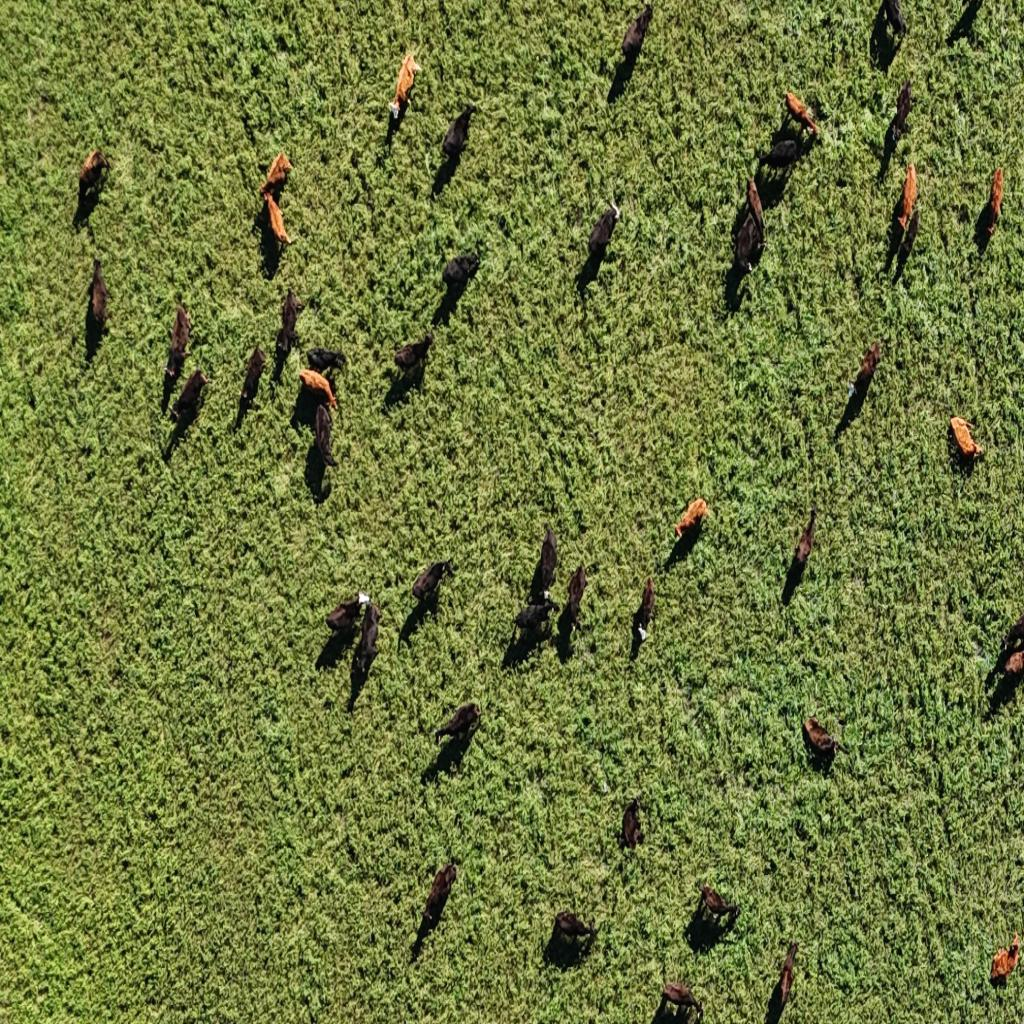cow: (386, 50, 422, 126), (420, 863, 458, 933), (548, 908, 598, 960), (413, 558, 454, 614), (164, 301, 192, 381), (352, 602, 380, 682), (435, 702, 481, 750), (172, 368, 210, 426), (697, 884, 741, 934), (734, 210, 766, 278), (848, 340, 883, 402), (394, 332, 435, 384), (620, 2, 654, 64), (258, 192, 296, 246), (441, 105, 477, 162), (276, 290, 306, 358), (86, 255, 112, 333), (328, 592, 370, 640), (531, 524, 557, 601), (774, 940, 800, 1016), (514, 596, 556, 642), (803, 717, 840, 769), (442, 250, 482, 298), (78, 150, 112, 204), (564, 562, 588, 638), (949, 414, 984, 466), (587, 203, 621, 256), (660, 982, 704, 1022), (239, 346, 267, 408), (299, 368, 337, 412), (890, 78, 914, 146), (314, 400, 338, 468), (991, 930, 1021, 983), (895, 162, 917, 234), (785, 92, 819, 138), (997, 610, 1024, 666), (673, 497, 707, 541), (950, 0, 984, 44), (633, 576, 655, 642), (625, 798, 651, 852), (746, 178, 766, 248), (985, 166, 1004, 239), (796, 505, 818, 568), (262, 150, 292, 192), (900, 206, 920, 268), (763, 138, 799, 172), (881, 0, 907, 47), (308, 347, 346, 377), (998, 648, 1024, 691)
